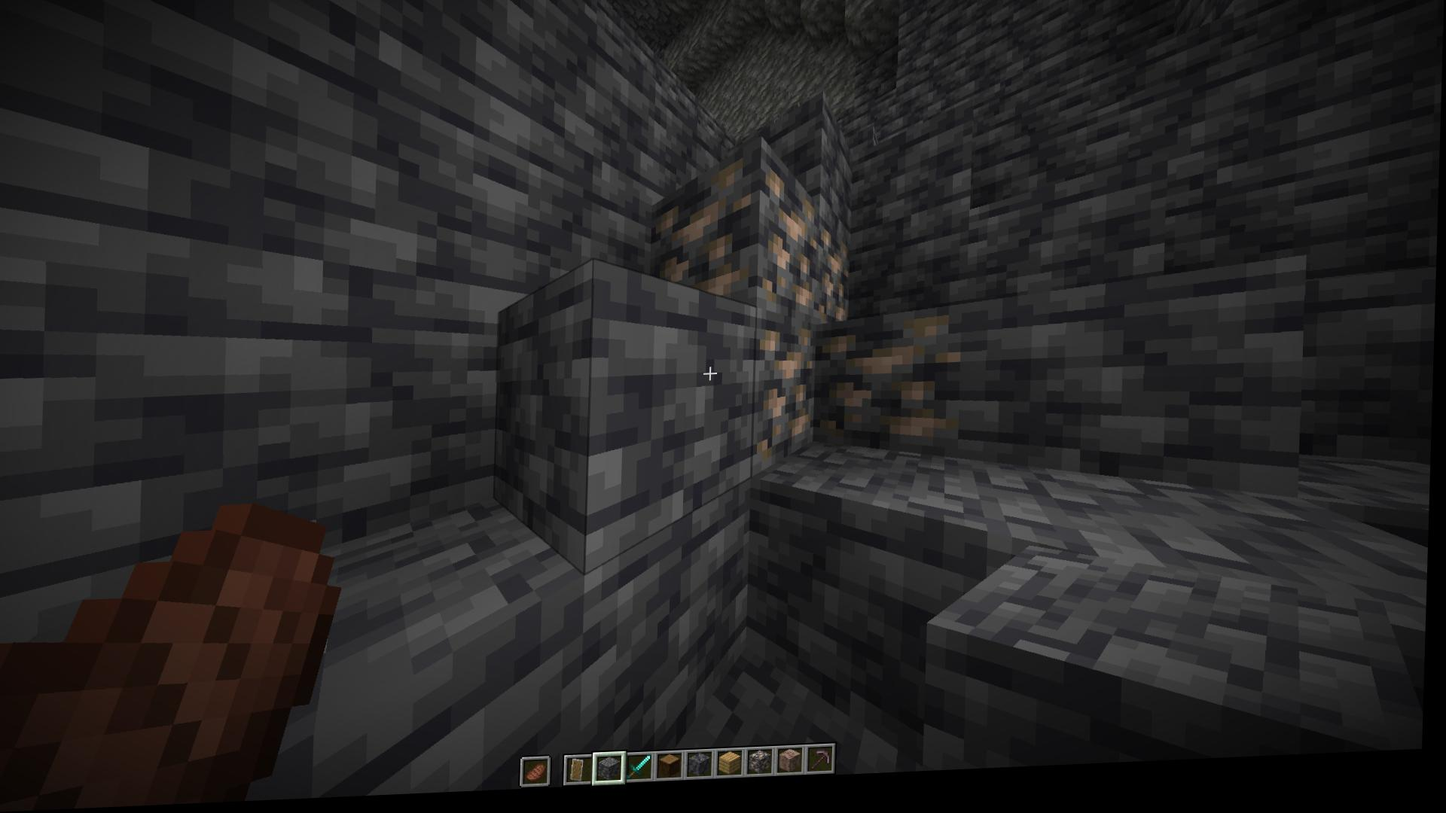iron ore: (819, 326, 963, 457), (651, 168, 759, 310), (757, 327, 819, 470), (759, 178, 819, 322), (818, 232, 857, 335)
